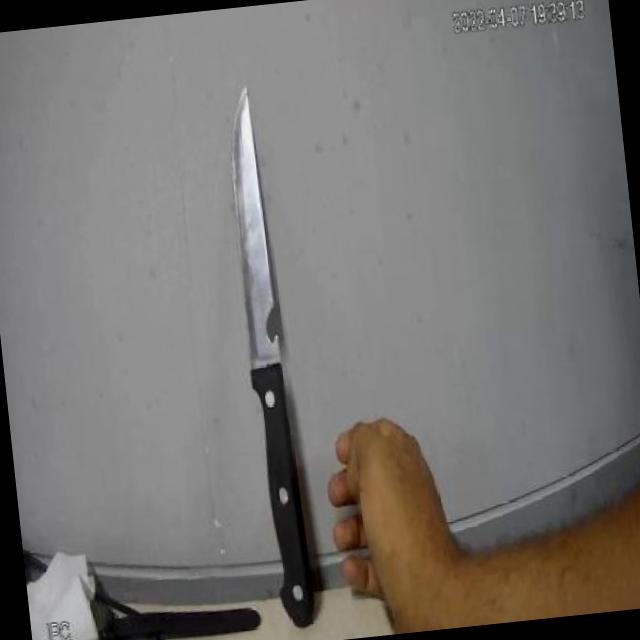knife: (212, 63, 330, 634)
